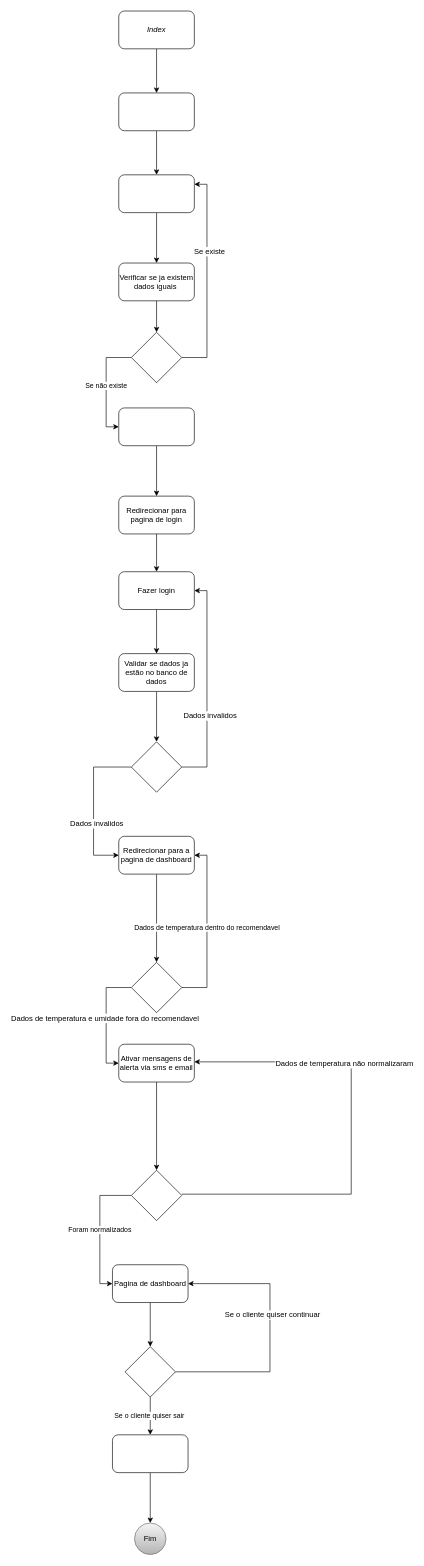
The diagram is 424 pixels wide and 1566 high, and some of its shapes have lost their labels. Here are the shapes that lost their labels. From the top down, the centre of each, then its label:
(156,111): Cadastro
(156,193): preencher formulario
(156,426): Mostrar uma mensagem "você foi cadastrado com sucesso"
(150,1453): Log out
